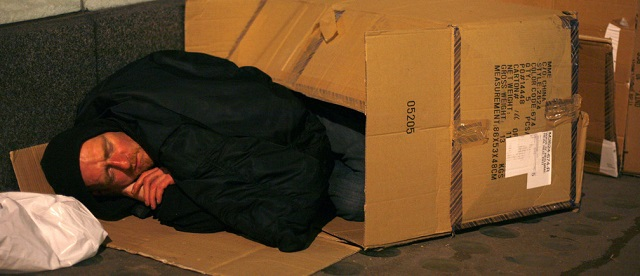box: (183, 2, 583, 246)
person: (39, 49, 365, 246)
